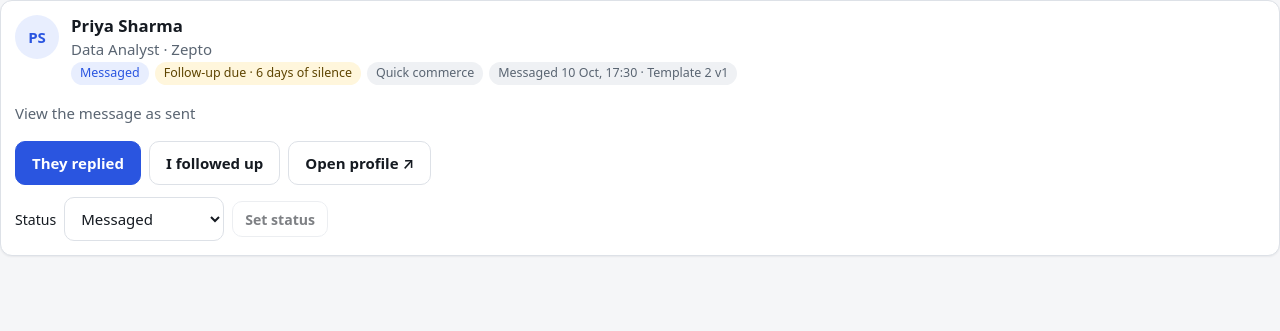
ConversationCard › shows an error from the server
Select "Dead" in the dropdown labelled "Status" at [144, 219], box [64, 197, 224, 241]
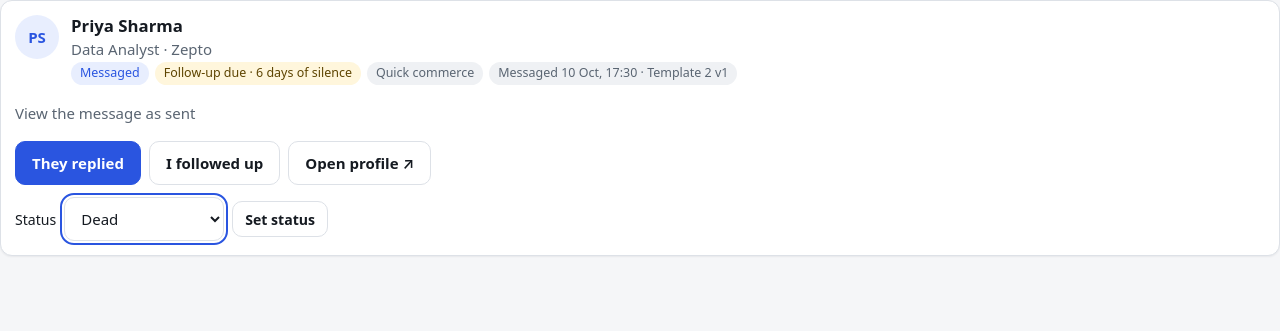
Click the button "Set status" at [280, 219], box [232, 201, 328, 237]
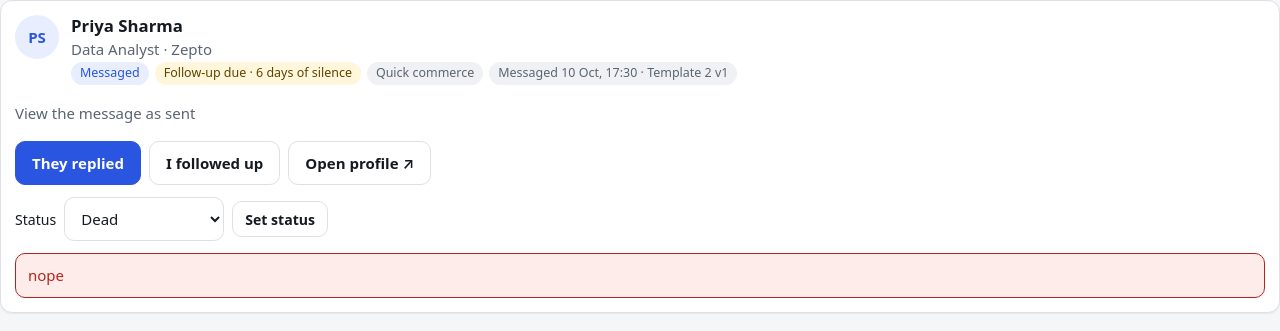
Expected: the message reads "nope", [28, 265, 64, 285]
